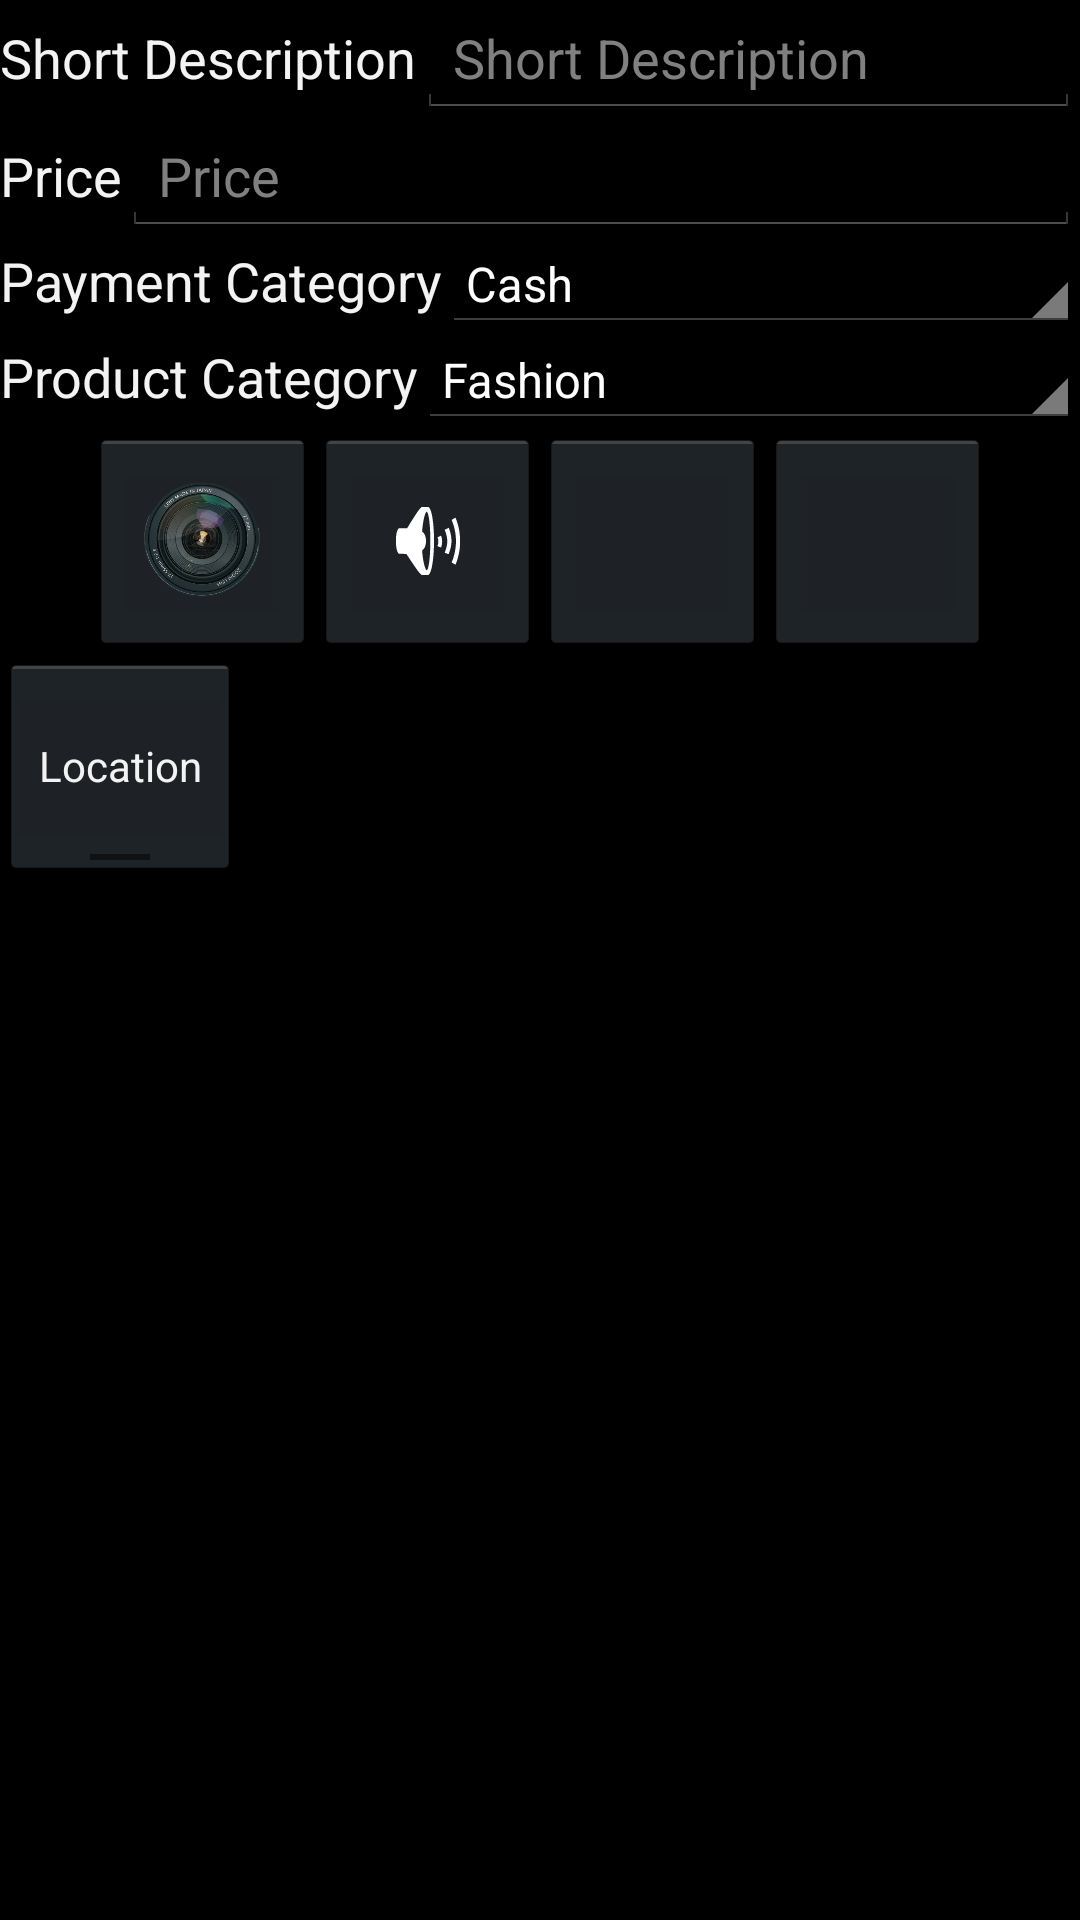

Point at icon controls on the screen. Image size 1080px×1920px, points as (x,y).
camera: (202,541)
lock silent mode off: (427,541)
